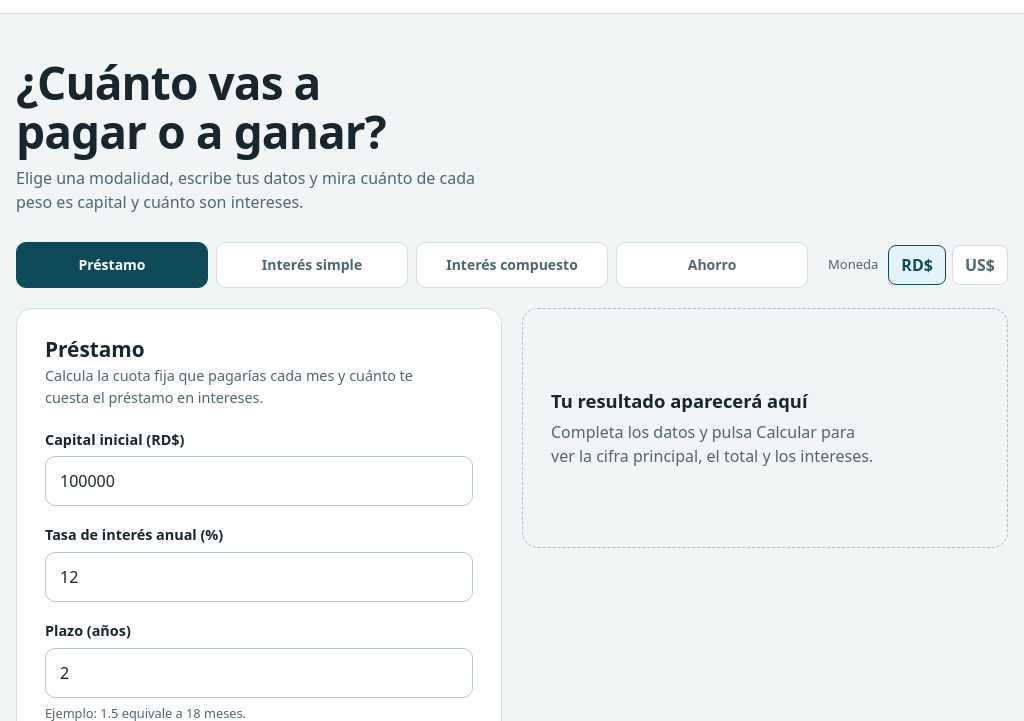
Scenario: FinanCalc › caso de la guía: validación con capital negativo muestra un error
Replace the text in the number field labelled "Capital inicial" with "-100" at coordinates (259, 481), box [45, 456, 473, 506]
(page scrolled)
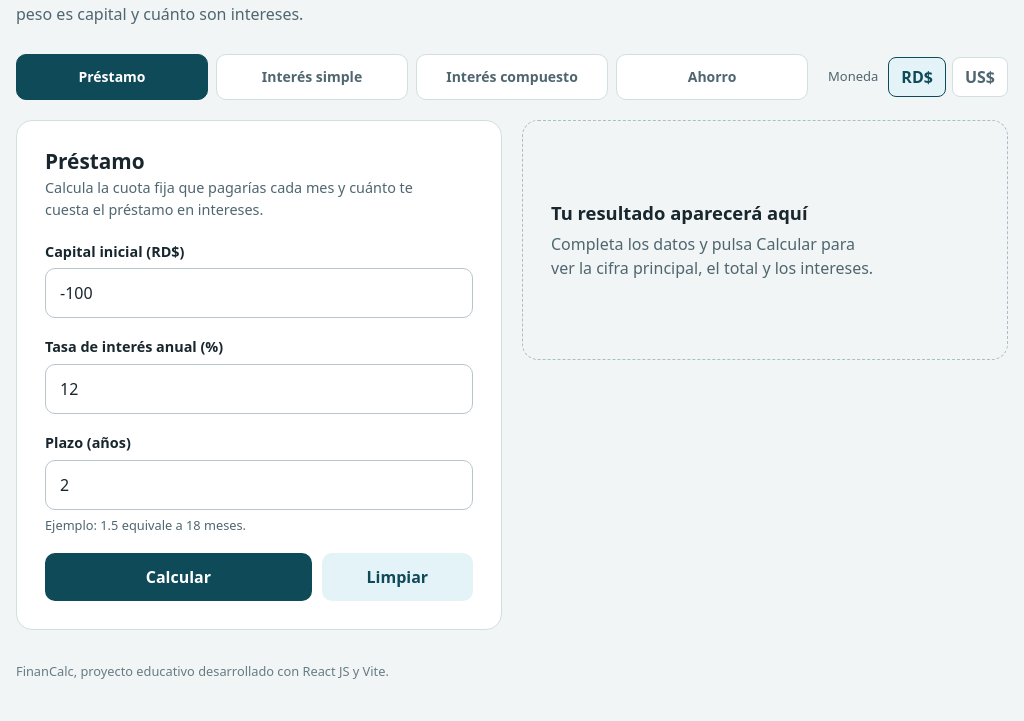
Click the button "Calcular" at coordinates (178, 577), box [45, 553, 312, 601]
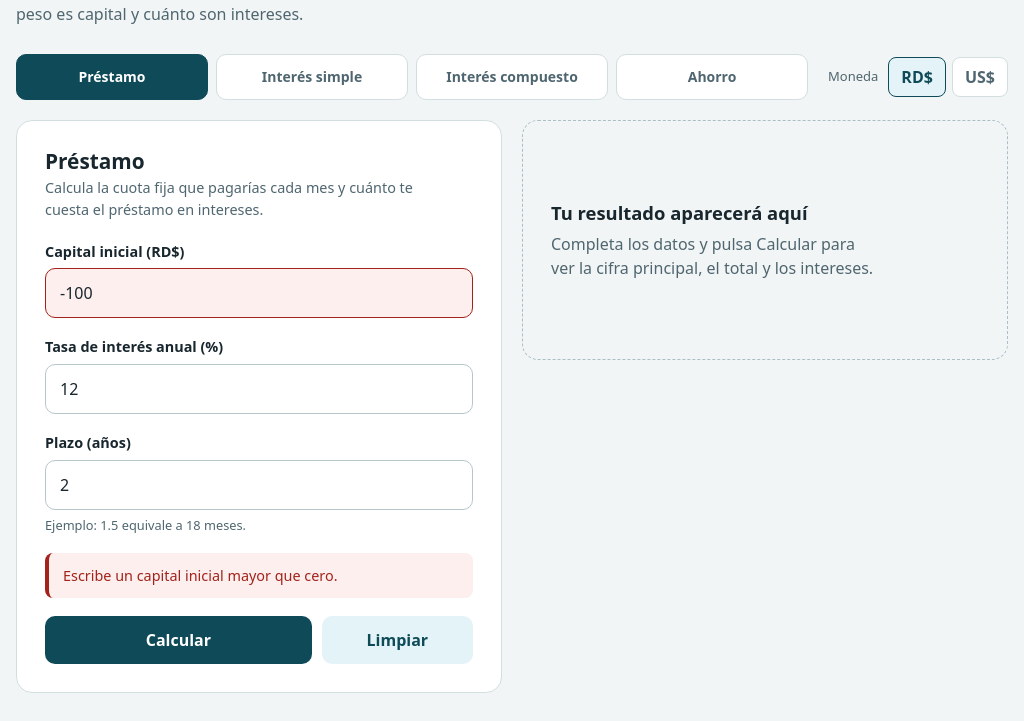
expect the message shows "capital inicial mayor que cero": met, box [63, 566, 338, 585]
